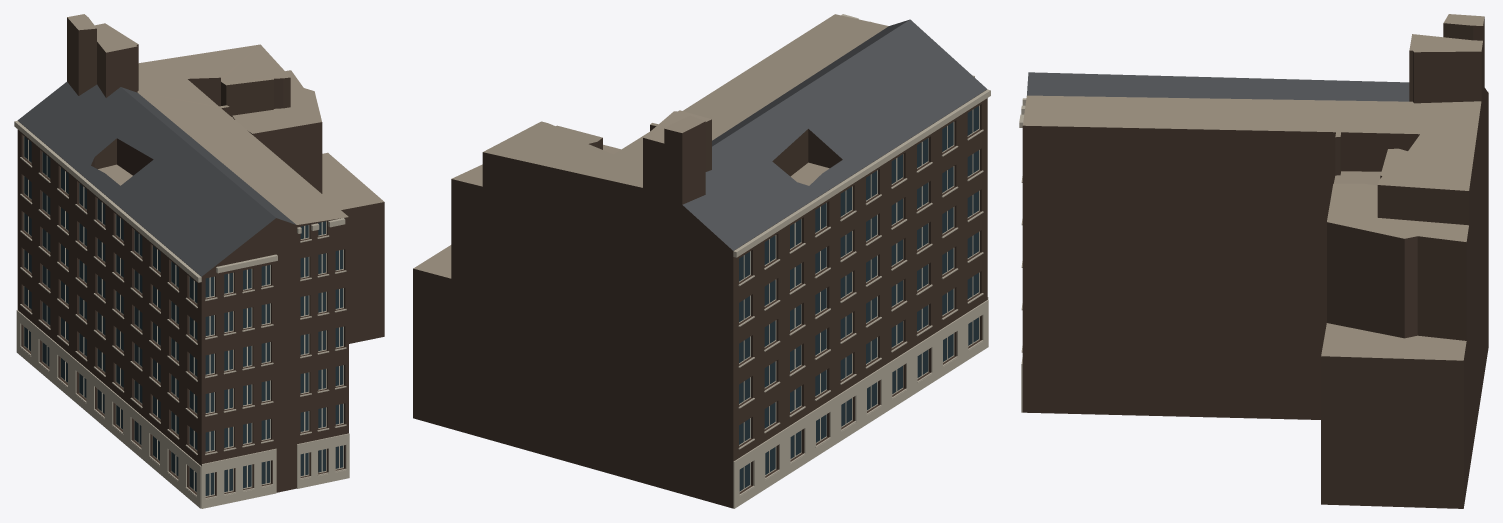
File: recipe-large-keizersgracht-359-253947.glb
3 renders of one model, left to right at view 1: azimuth 30°, elevation 25°; view 2: azimuth 150°, elevation 25°; view 3: azimuth 270°, elevation 25°, orthographic. The views are drawn at different scales.
Parts seen in each view (by area): view 1: keizersgracht-359-253947; view 2: keizersgracht-359-253947; view 3: keizersgracht-359-253947.
Boxes of the visible parts, <box> form: keizersgracht-359-253947: <box>14,14,384,508</box>; keizersgracht-359-253947: <box>413,14,990,508</box>; keizersgracht-359-253947: <box>1019,14,1488,508</box>.
Size of the model in its own units: 29.13 by 27.84 by 33.14.
